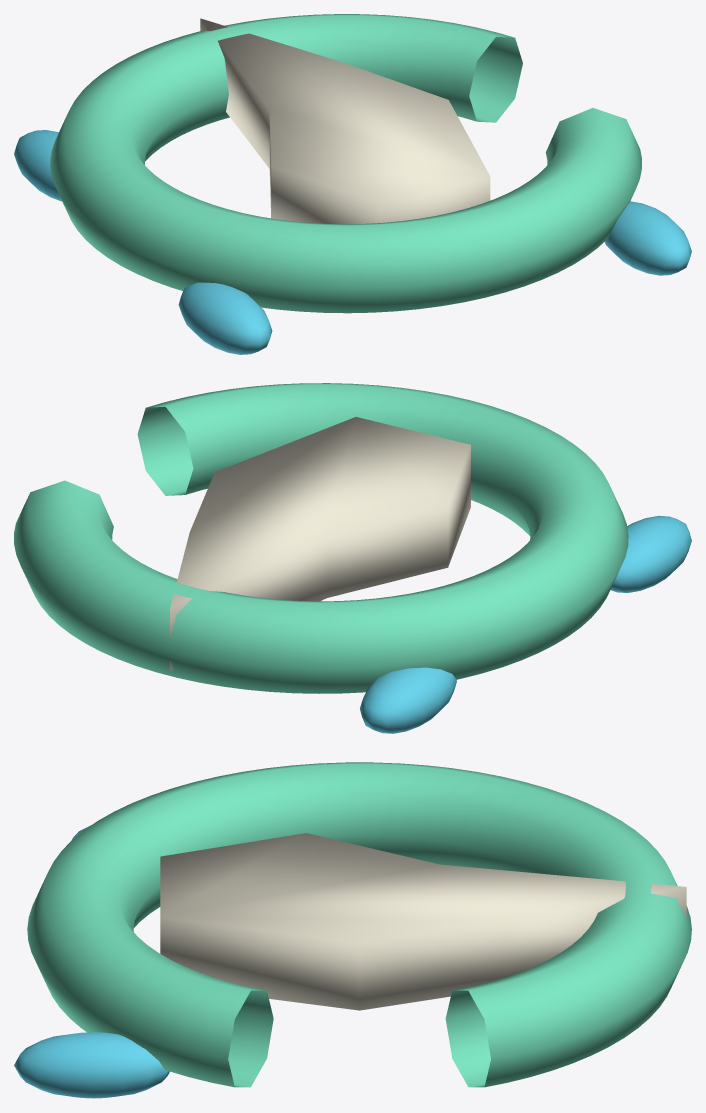
The model's file is cleanse.glb.
3 renders of one model, top to bottom at view 1: azimuth 30°, elevation 25°; view 2: azimuth 150°, elevation 25°; view 3: azimuth 270°, elevation 25°, orthographic. The views are drawn at different scales.
Parts seen in each view (by area): view 1: Open jade crescent, Rising flame, Released ice shard, Released ice shard.001, Released ice shard.002; view 2: Open jade crescent, Rising flame, Released ice shard.002, Released ice shard; view 3: Open jade crescent, Rising flame, Released ice shard.001.
Part boxes in pixels (bbox=[...]): Open jade crescent: bbox=[50, 14, 641, 313]; Rising flame: bbox=[200, 18, 490, 224]; Released ice shard: bbox=[178, 282, 272, 354]; Released ice shard.001: bbox=[604, 201, 691, 275]; Released ice shard.002: bbox=[14, 130, 61, 201]; Open jade crescent: bbox=[14, 383, 628, 693]; Rising flame: bbox=[170, 417, 470, 671]; Released ice shard.002: bbox=[360, 667, 456, 733]; Released ice shard: bbox=[610, 515, 691, 592]; Open jade crescent: bbox=[27, 762, 691, 1087]; Rising flame: bbox=[160, 833, 686, 1010]; Released ice shard.001: bbox=[14, 1032, 169, 1098].
Size of the model in its own units: 2.4 by 0.47 by 2.55.
